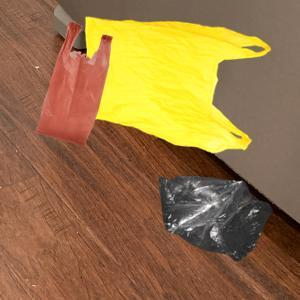plastic_bag: (80, 14, 273, 156), (34, 18, 114, 148)
